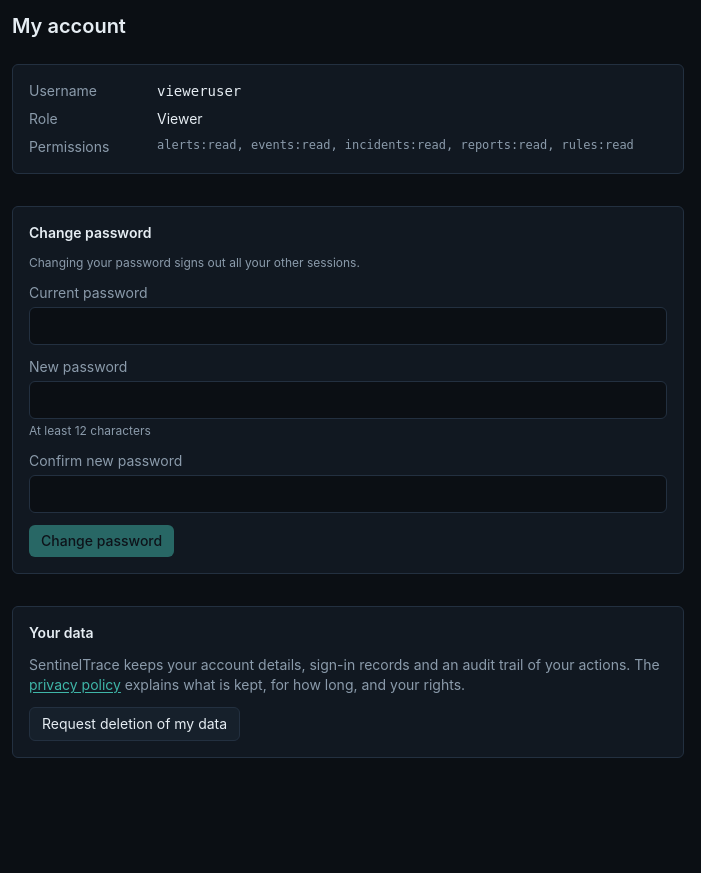
Test: AccountPage: your data › sends a deletion request after confirmation
The image size is (701, 873).
Click the button "Request deletion of my data". click: (135, 724)
box: left=29, top=707, right=240, bottom=741
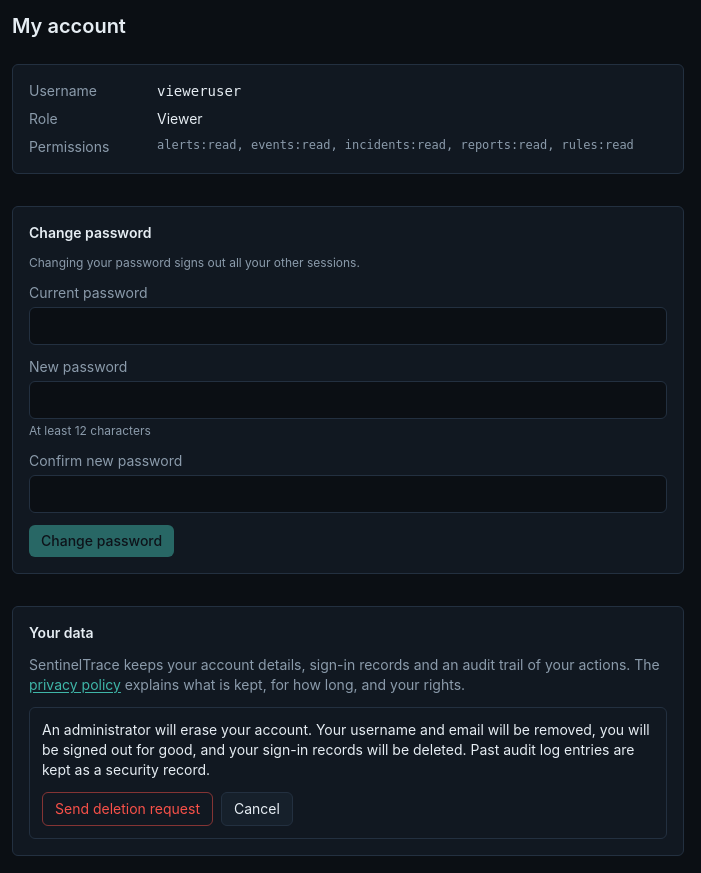
Click the button "Send deletion request". click: (128, 809)
box: left=42, top=792, right=213, bottom=826
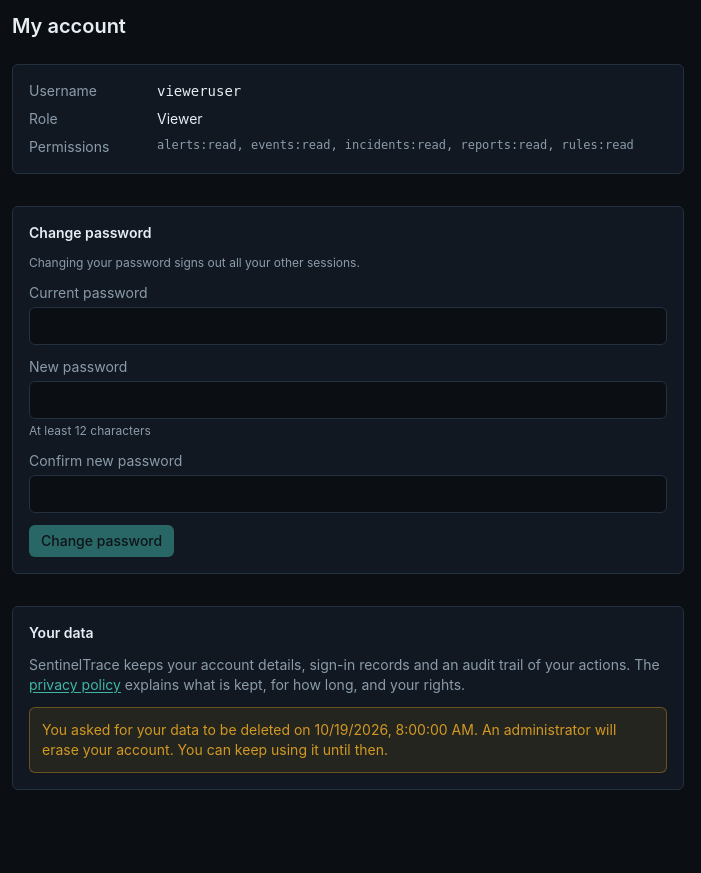
expect the message shows "You asked for your data to be deleted": met, box left=42, top=721, right=314, bottom=738
